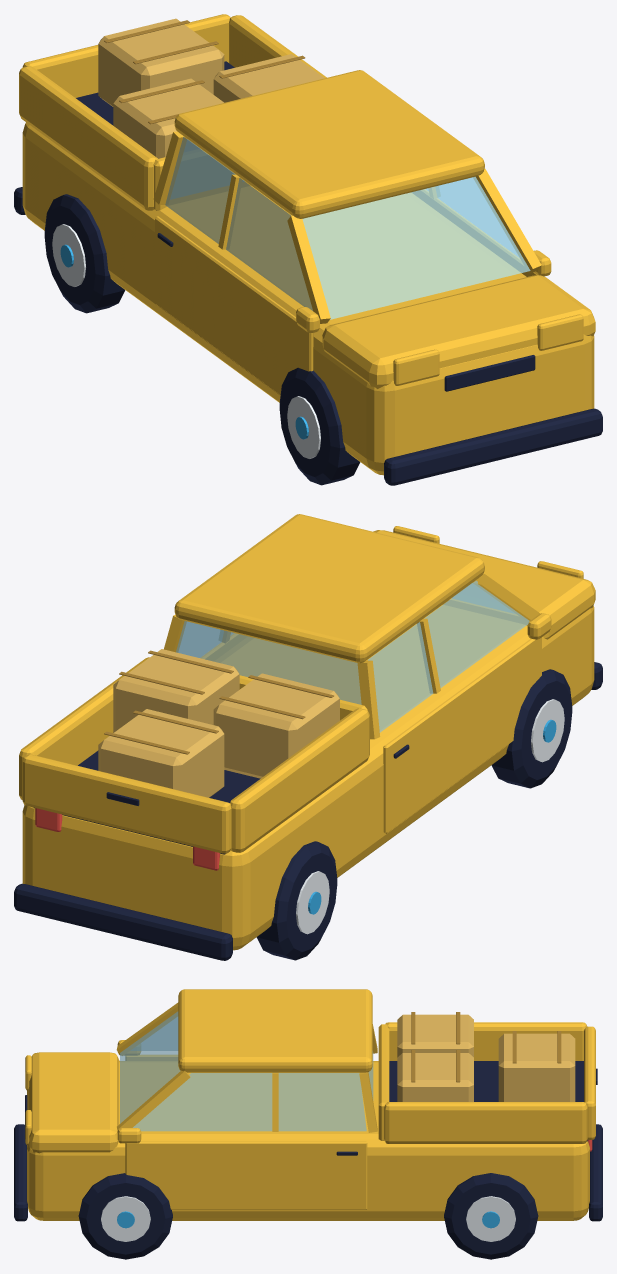
File: V03_pickup.glb
3 renders of one model, top to bottom at view 1: azimuth 30°, elevation 25°; view 2: azimuth 150°, elevation 25°; view 3: azimuth 270°, elevation 25°, orthographic. The views are drawn at different scales.
Visible parts, largest first — view 1: Body, Glass, HayBales, Door_R, Bumper_Front, Wheel_RR, Wheel_FR, Trunk, Grille, Door_L, Headlight_-1, Headlight_1 (+1 smaller); view 2: Body, HayBales, Glass, Door_R, Trunk, Bumper_Rear, Wheel_RR, Wheel_FR, CargoBed; view 3: Body, Glass, Door_L, HayBales, Wheel_RL, Wheel_FL, CargoBed, Trunk, Bumper_Front, Bumper_Rear, Mirror_L.
Boxes of the visible parts, x1,y1,x2,y2 form: Body: (19, 15, 595, 475); Glass: (165, 137, 530, 319); HayBales: (98, 18, 324, 158); Door_R: (155, 216, 313, 394); Bumper_Front: (384, 408, 602, 485); Wheel_RR: (44, 194, 125, 313); Wheel_FR: (279, 367, 360, 485); Trunk: (22, 14, 230, 97); Grille: (444, 355, 535, 391); Door_L: (412, 189, 537, 276); Headlight_-1: (393, 349, 439, 385); Headlight_1: (537, 314, 583, 350); Body: (19, 514, 595, 950); HayBales: (98, 649, 339, 797); Glass: (176, 581, 529, 732); Door_R: (383, 637, 541, 833); Trunk: (22, 754, 231, 853); Bumper_Rear: (14, 883, 232, 960); Wheel_RR: (256, 841, 337, 960); Wheel_FR: (491, 669, 572, 788); CargoBed: (34, 750, 260, 854); Body: (27, 989, 589, 1220); Glass: (120, 1011, 373, 1131); Door_L: (125, 1141, 367, 1209); HayBales: (397, 1012, 575, 1101); Wheel_RL: (444, 1173, 538, 1259); Wheel_FL: (78, 1173, 172, 1259); CargoBed: (389, 1061, 587, 1141); Trunk: (584, 1026, 597, 1139); Bumper_Front: (14, 1124, 27, 1221); Bumper_Rear: (589, 1124, 602, 1221); Mirror_L: (117, 1128, 141, 1143).
Bounding box in the file's own units: 1.9 × 1.8 × 5.
